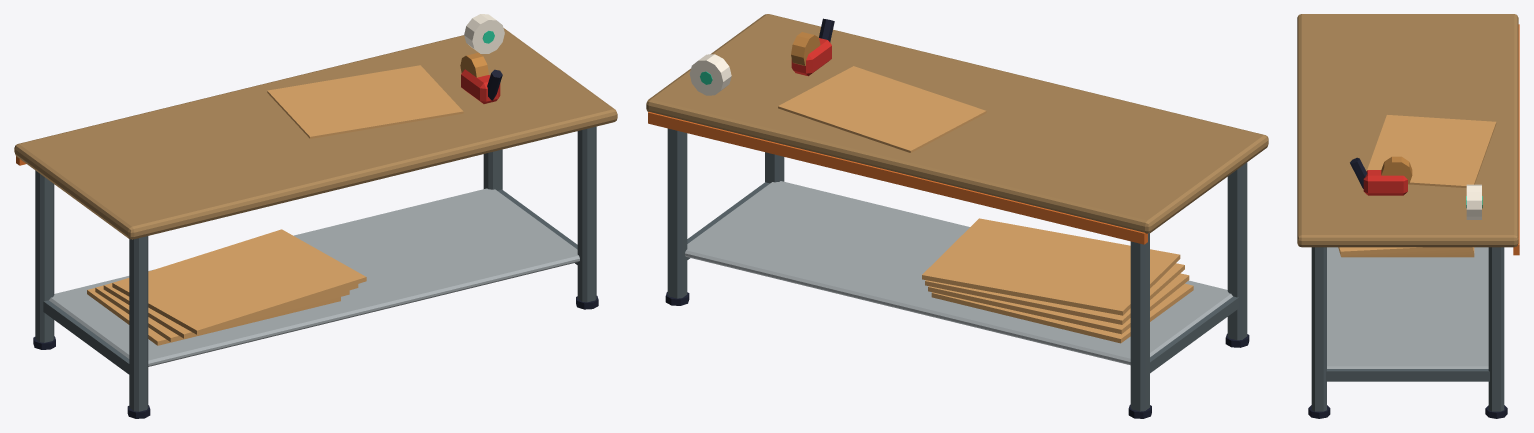
File: sm_env_depot_packing_table.glb
The picture shows the model from 3 angles, left to right: view 1: azimuth 30°, elevation 25°; view 2: azimuth 150°, elevation 25°; view 3: azimuth 270°, elevation 25°; orthographic projection. The views are drawn at different scales.
Visible parts, largest first — view 1: Top, LowerShelf, FlatBox.003, CardboardSheet, Leg.001, Leg.003, Leg, LegTie, FlatBox, FlatBox.001, LabelRoll, FlatBox.002 (+2 smaller); view 2: Top, LowerShelf, FlatBox.003, CardboardSheet, TopEdge, Leg.002, Leg, Leg.001, FlatBox.001, FlatBox.002, FlatBox, LegTie (+3 smaller); view 3: Top, LowerShelf, CardboardSheet, Leg.002, Leg.003, LegTie.001, TapeGunBody, FlatBox.003, LabelRoll, TapeGunRoll, TopEdge, FlatBox (+3 smaller).
Boxes of the visible parts, x1,y1,x2,y2 form: Top: (14, 28, 617, 239); LowerShelf: (49, 188, 579, 366); FlatBox.003: (112, 229, 366, 334); CardboardSheet: (267, 65, 463, 138); Leg.001: (129, 236, 148, 411); Leg.003: (577, 126, 596, 302); Leg: (35, 170, 54, 342); LegTie: (43, 300, 129, 374); FlatBox: (87, 288, 340, 345); FlatBox.001: (95, 285, 349, 341); LabelRoll: (464, 14, 504, 53); FlatBox.002: (103, 282, 358, 338); Top: (646, 14, 1268, 233); LowerShelf: (685, 181, 1232, 365); FlatBox.003: (922, 218, 1180, 315); CardboardSheet: (778, 66, 986, 152); TopEdge: (648, 112, 1147, 244); Leg.002: (667, 128, 687, 298); Leg: (1130, 233, 1149, 411); Leg.001: (1227, 162, 1247, 340); FlatBox.001: (928, 273, 1189, 334); FlatBox.002: (925, 263, 1184, 324); FlatBox: (931, 283, 1193, 343); LegTie: (1150, 296, 1238, 373); Top: (1297, 14, 1518, 247); LowerShelf: (1327, 247, 1488, 368); CardboardSheet: (1367, 115, 1496, 187); Leg.002: (1488, 247, 1504, 411); Leg.003: (1311, 247, 1326, 411); LegTie.001: (1326, 369, 1489, 381); TapeGunBody: (1363, 170, 1407, 195); FlatBox.003: (1338, 247, 1472, 255); LabelRoll: (1466, 184, 1481, 219); TapeGunRoll: (1381, 156, 1412, 184); TopEdge: (1513, 24, 1519, 255); FlatBox: (1341, 247, 1474, 257).
Size of the model in its own units: 2.4 by 1.11 by 1.01.
